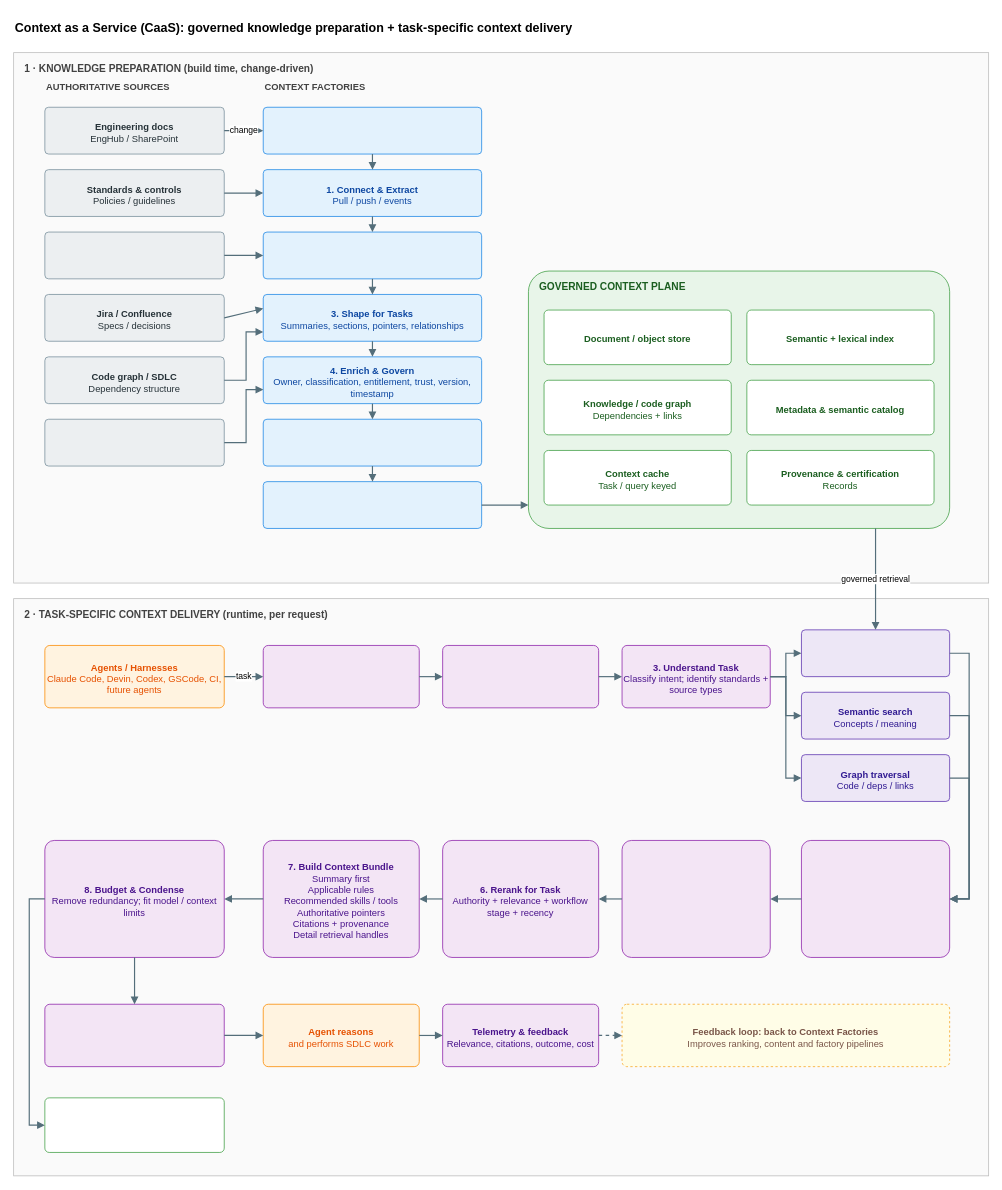
The diagram is 1002 pixels wide and 1190 high, and some of its shapes have lost their labels. The centre of each missing label's shape, as x and y in pixels:
1. Receive Task Query, repo, workflow, task type, session state: (x=340, y=676)
2. Identity & Scope Caller, entitlements, repo, data classification: (x=520, y=676)
2. Normalize Canonical document + metadata contract: (x=372, y=255)
4. Merge & Normalize Deduplicate and reconcile scores across sources: (x=875, y=898)
5. Certify Quality, provenance, compliance, safety; fail closed: (x=372, y=442)
5. Filter & Policy Entitlement, trust, freshness, certification: (x=695, y=898)
6. Index & Publish Semantic, lexical, graph and metadata indexes: (x=372, y=504)
Cache task-shaped result with invalidation on source change: (x=134, y=1124)
Lexical search Exact terms: (x=875, y=653)
Repositories Code / configs / ADRs: (x=134, y=255)
Return context via MCP, API, CLI or plugin: (x=134, y=1035)
Runtime evidence Builds, tests, scans: (x=134, y=442)
Source-owned pipelines Triggered by commit, edit, schema or policy update: (x=372, y=130)
